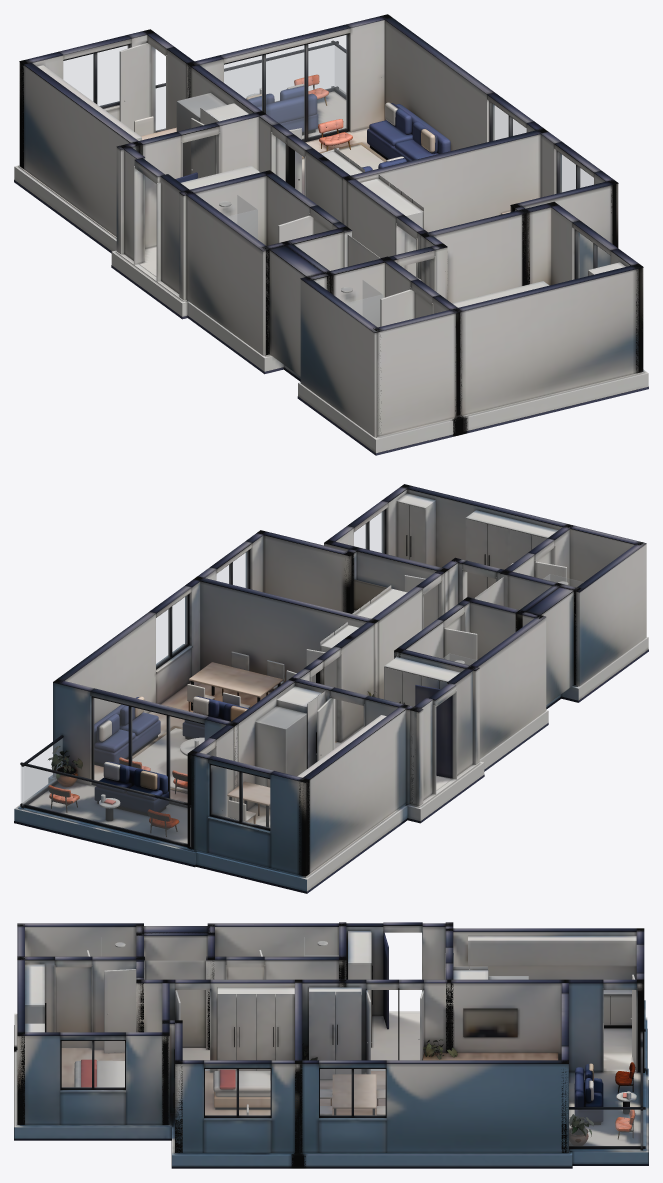
3 renders of one model, top to bottom at view 1: azimuth 30°, elevation 25°; view 2: azimuth 150°, elevation 25°; view 3: azimuth 270°, elevation 25°, orthographic. The views are drawn at different scales.
Visible parts, largest first — view 1: plan, glass1_m, railg0_m, glass0_m, glass4_m, glass3_m, glass2_m, sg.002_m, sg_m; view 2: plan, railg0_m, glass1_m, glass0_m, glass2_m, railg5_m, glass4_m, glass3_m; view 3: plan, glass2_m, glass3_m, glass4_m, railg5_m.
Boxes of the visible parts, x1,y1,x2,y2 form: plan: (14,14,648,455); glass1_m: (224,35,347,139); railg0_m: (156,45,333,130); glass0_m: (63,45,128,106); glass4_m: (577,231,610,278); glass3_m: (559,153,593,192); glass2_m: (491,103,526,140); sg.002_m: (363,280,382,326); sg_m: (237,195,257,238); plan: (14,484,648,893); railg0_m: (21,766,187,843); glass1_m: (93,698,204,802); glass0_m: (211,765,269,828); glass2_m: (156,595,187,666); railg5_m: (22,738,62,805); glass4_m: (354,510,384,552); glass3_m: (217,551,247,588); plan: (14,922,648,1168); glass2_m: (320,1069,385,1115); glass3_m: (205,1069,270,1115); glass4_m: (62,1041,124,1087); railg5_m: (569,1110,645,1145).
Size of the model in its own units: 7.81 by 2.62 by 14.53.
2 materials, 1 textured.
